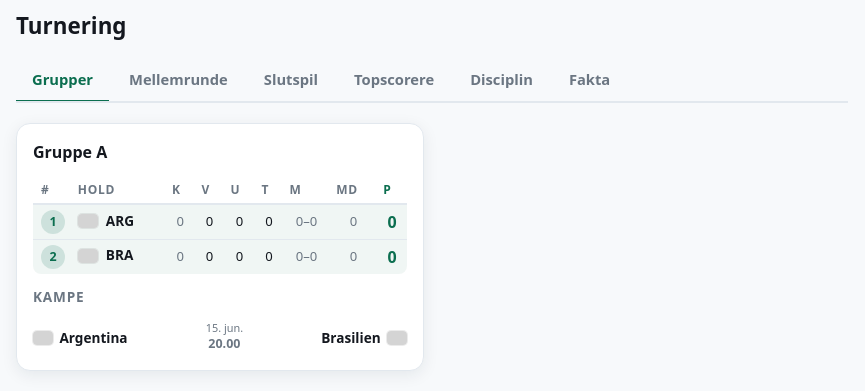
TournamentPage – Fakta-fane › viser tom-tilstand uden spillede kampe
Click the tab "Fakta".
click(590, 81)  # box left=553, top=59, right=626, bottom=103
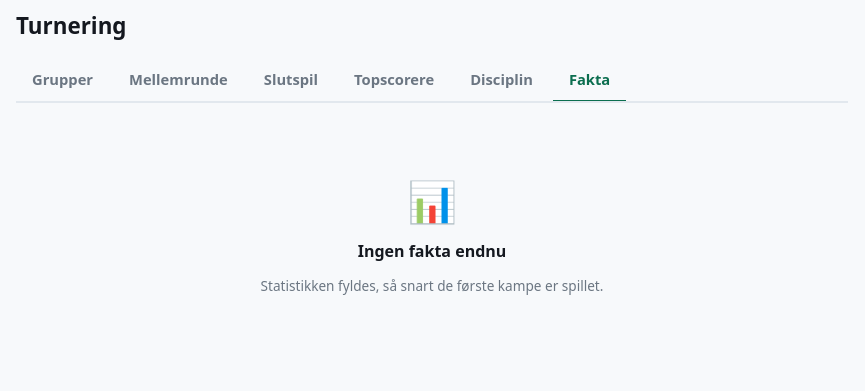
Now the text "Ingen fakta endnu" is shown, box left=358, top=240, right=506, bottom=262
